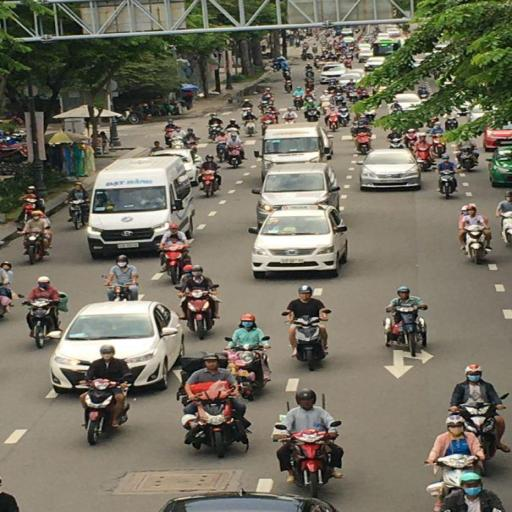car: (49, 300, 185, 396), (84, 158, 185, 256), (250, 205, 348, 280), (256, 166, 338, 222), (259, 122, 327, 186), (362, 149, 422, 193), (489, 148, 511, 190), (484, 123, 511, 151)
motorcycle: (277, 420, 346, 492), (185, 395, 253, 457), (82, 375, 133, 446), (222, 338, 273, 401), (453, 401, 507, 459), (181, 288, 220, 342), (158, 232, 192, 284), (25, 300, 61, 349), (464, 227, 494, 264), (22, 229, 51, 266), (197, 162, 222, 198), (106, 284, 141, 304), (68, 202, 90, 230), (438, 170, 458, 198), (354, 131, 373, 155)
